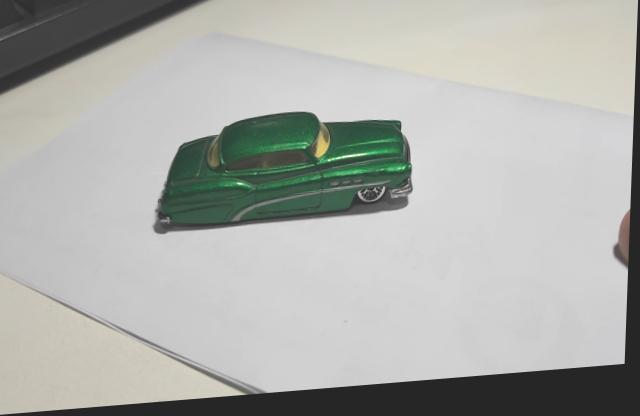06_MASERATI: (156, 117, 414, 237)
